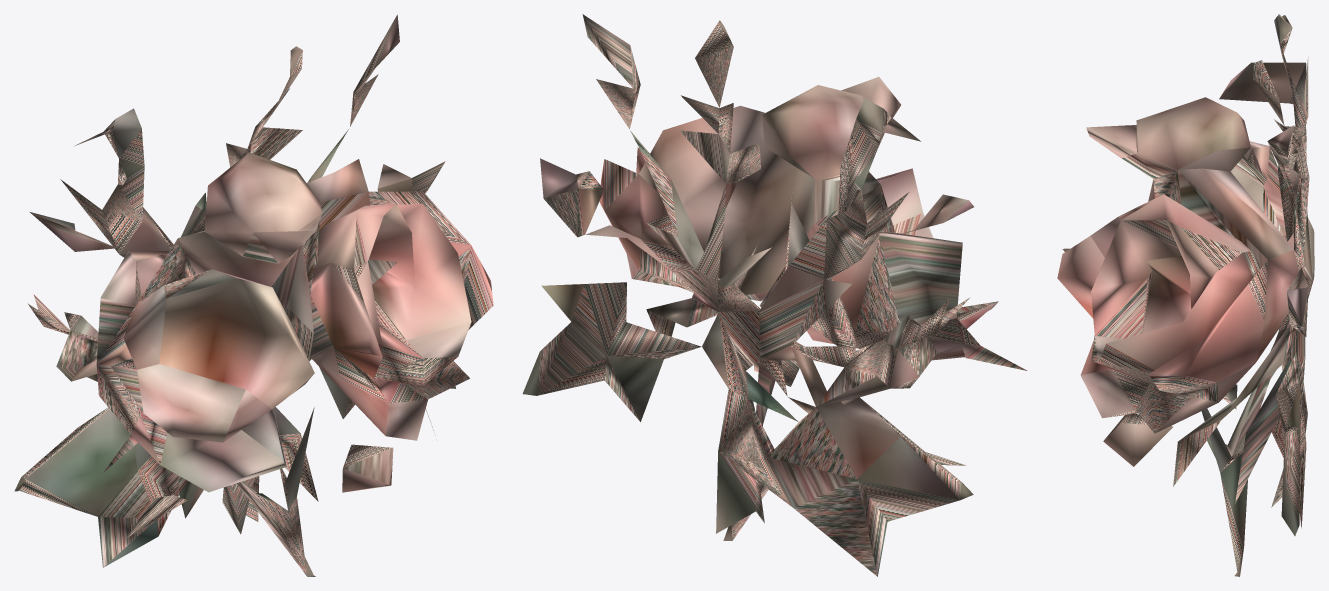
3 renders of one model, left to right at view 1: azimuth 30°, elevation 25°; view 2: azimuth 150°, elevation 25°; view 3: azimuth 270°, elevation 25°, orthographic. The views are drawn at different scales.
Parts seen in each view (by area): view 1: Rose-Bouquet-9-31; view 2: Rose-Bouquet-9-31; view 3: Rose-Bouquet-9-31.
Boxes of the visible parts, box(x1,y1,x2,y2) form: Rose-Bouquet-9-31: box(14, 14, 493, 576); Rose-Bouquet-9-31: box(522, 14, 1027, 576); Rose-Bouquet-9-31: box(1057, 14, 1314, 576).
Bounding box in the file's own units: 0.2291 × 0.2576 × 0.1169.
Materials: 1 (1 with a texture image).
